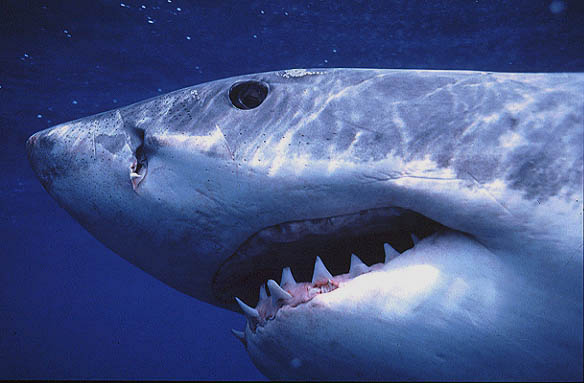Carcharodon_carcharias: (18, 54, 584, 376)
